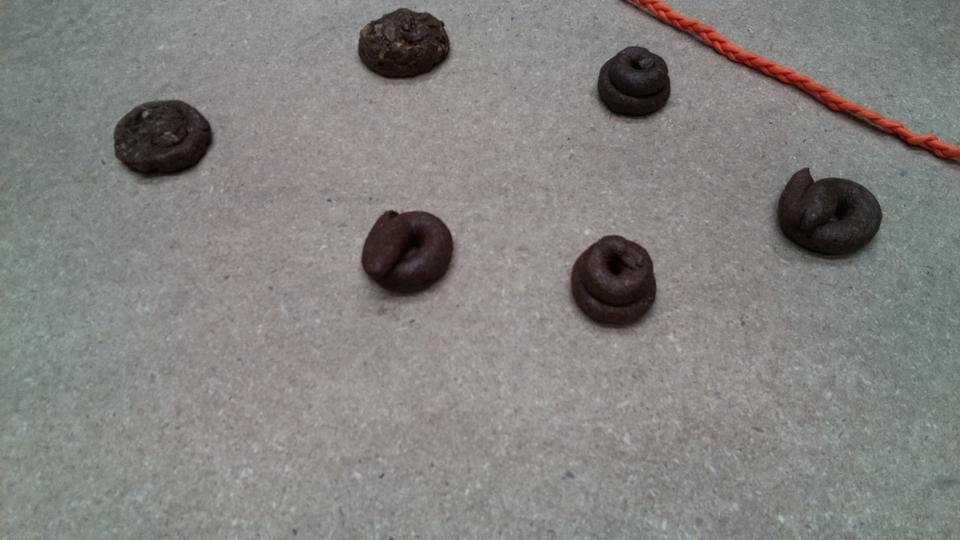poop: (773, 162, 885, 263), (357, 203, 457, 299), (568, 231, 661, 333), (111, 95, 216, 181), (354, 5, 455, 84), (593, 42, 675, 124)
rope: (644, 1, 960, 150)
